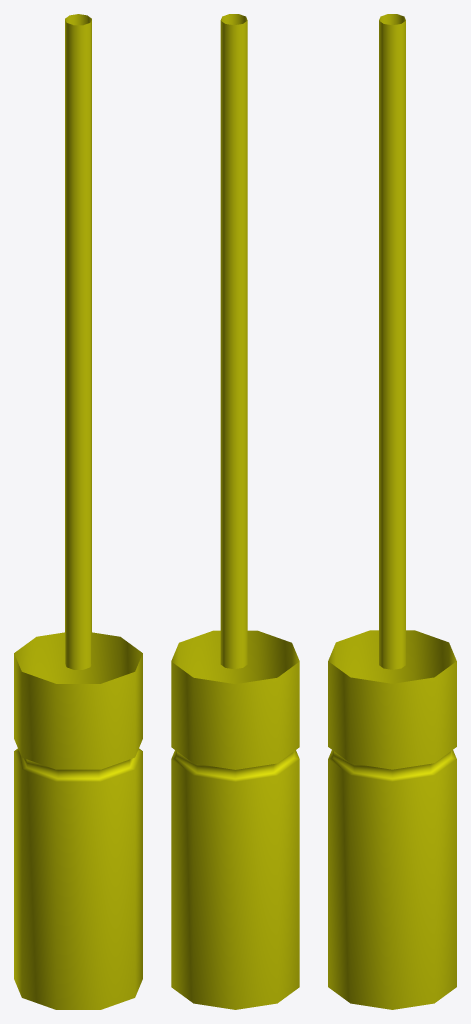
The model's file is FOCO.fbx.
3 renders of one model, left to right at view 1: azimuth 90°, elevation 25°; view 2: azimuth 150°, elevation 25°; view 3: azimuth 270°, elevation 25°, orthographic.
Visible parts, largest first — view 1: FOCO; view 2: FOCO; view 3: FOCO.
Boxes of the visible parts, left/top/right/bottom form: FOCO: left=14, top=14, right=142, bottom=1009; FOCO: left=171, top=14, right=299, bottom=1009; FOCO: left=328, top=14, right=456, bottom=1009.
Size of the model in its own units: 0.261 by 2.19 by 0.265.
